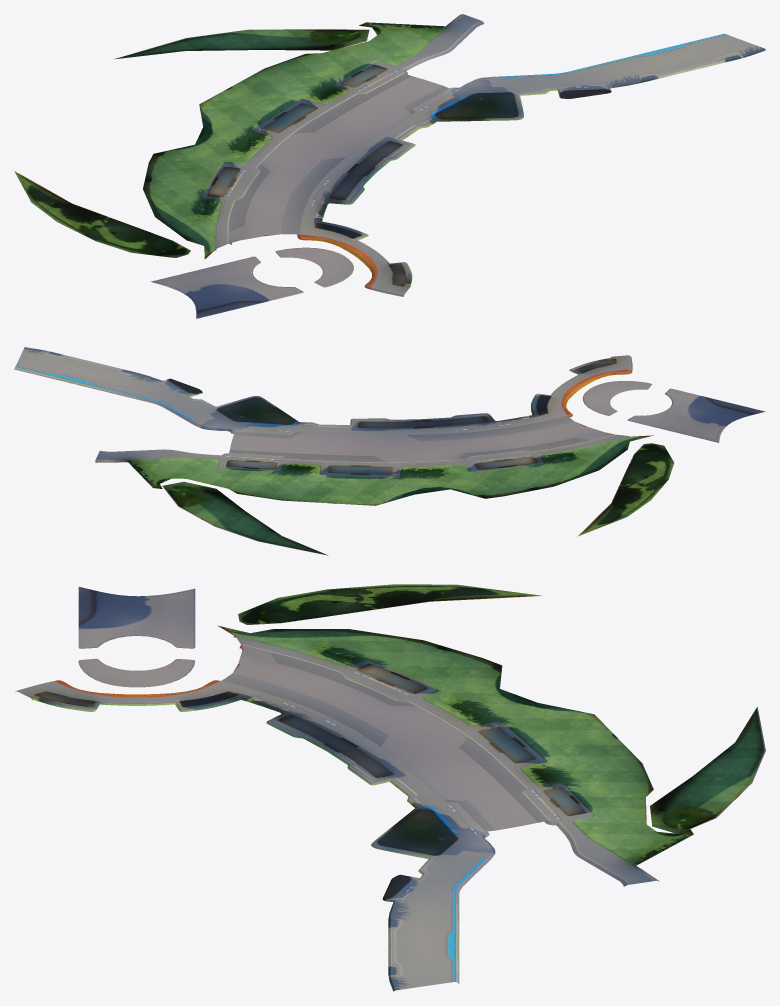
File: pref_sm_beach_tech_hunt_bk_beta_Terrains_Part_05_lv2.fbx
The picture shows the model from 3 angles, top to bottom: view 1: azimuth 30°, elevation 25°; view 2: azimuth 150°, elevation 25°; view 3: azimuth 270°, elevation 25°; orthographic projection. The views are drawn at different scales.
Visible parts, largest first — view 1: sm_beach_tech_hunt_bk_beta_Terrains_Part_05b_lv2, sm_beach_tech_hunt_bk_beta_Terrains_Part_05a_lv2; view 2: sm_beach_tech_hunt_bk_beta_Terrains_Part_05b_lv2, sm_beach_tech_hunt_bk_beta_Terrains_Part_05a_lv2; view 3: sm_beach_tech_hunt_bk_beta_Terrains_Part_05b_lv2, sm_beach_tech_hunt_bk_beta_Terrains_Part_05a_lv2.
Boxes of the visible parts, x1=… form: sm_beach_tech_hunt_bk_beta_Terrains_Part_05b_lv2: x1=150, y1=14, x2=765, y2=318; sm_beach_tech_hunt_bk_beta_Terrains_Part_05a_lv2: x1=14, y1=22, x2=446, y2=258; sm_beach_tech_hunt_bk_beta_Terrains_Part_05b_lv2: x1=14, y1=347, x2=765, y2=477; sm_beach_tech_hunt_bk_beta_Terrains_Part_05a_lv2: x1=126, y1=435, x2=674, y2=555; sm_beach_tech_hunt_bk_beta_Terrains_Part_05b_lv2: x1=15, y1=587, x2=659, y2=991; sm_beach_tech_hunt_bk_beta_Terrains_Part_05a_lv2: x1=217, y1=584, x2=765, y2=866.
Size of the model in its own units: 78.22 by 0.5335 by 61.14.
